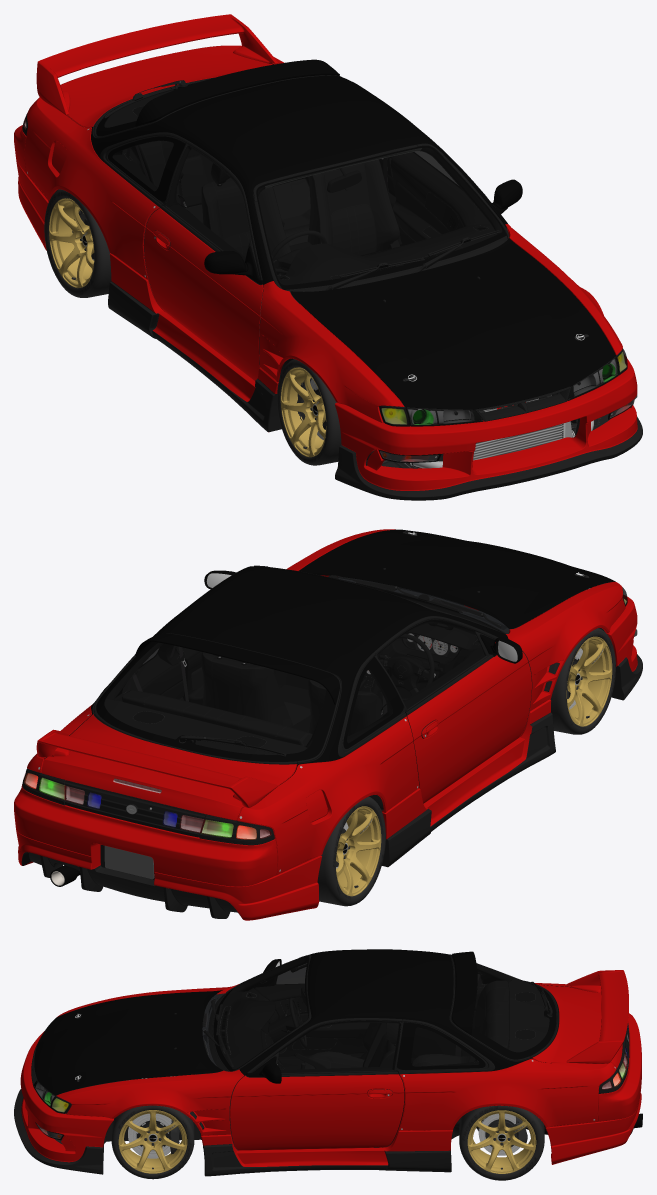
The model's file is sedan.glb.
3 renders of one model, top to bottom at view 1: azimuth 30°, elevation 25°; view 2: azimuth 150°, elevation 25°; view 3: azimuth 270°, elevation 25°, orthographic. The views are drawn at different scales.
Parts seen in each view (by area): view 1: s14:M_CarPaint_Max, s14:M_Glass_WindowLeft_Max, s14:M_Interior_Max, s14:M_Opaque_PlasticRoughBlack_Max, s14:M_Glass_WindowSurround, s14:M_LGlass_InnerClear_Max, s14:M_Opaque_PlasticSmoothBlack_Max, off5, off6, s14:M_Chassis_Max, s14:M_LBucket_SetST_Max, polySurface36_m:Mitsubishi_VoltexEvoIXRewardRecycled_2005_Wh (+1 smaller); view 2: s14:M_CarPaint_Max, s14:M_Glass_WindowLeft_Max, s14:M_Interior_Max, s14:M_Glass_WindowSurround, s14:M_Opaque_PlasticRoughBlack_Max, s14:M_Opaque_PlasticSmoothBlack_Max, off5, off6, s14:M_LBucket_Max, s14:M_LGlass_InnerClear_Max, polySurface36_m:Mitsubishi_VoltexEvoIXRewardRecycled_2005_Wh, polySurface30_m:Mitsubishi_VoltexEvoIXRewardRecycled_2005_Wh (+4 smaller); view 3: s14:M_CarPaint_Max, s14:M_Glass_WindowLeft_Max, s14:M_Interior_Max, s14:M_Glass_WindowSurround, off4, Wrim:off1, s14:M_Opaque_PlasticSmoothBlack_Max, polySurface35_m:Mitsubishi_VoltexEvoIXRewardRecycled_2005_Wh, s14:M_Opaque_PlasticRoughBlack_Max, polySurface15_m:Mitsubishi_VoltexEvoIXRewardRecycled_2005_Wh, s14:M_LGlass_InnerClear_Max, s14:M_Chassis_Max (+6 smaller).
Part boxes in pixels (x1,y1,x2,y2): s14:M_CarPaint_Max: [14, 14, 642, 500]; s14:M_Glass_WindowLeft_Max: [104, 88, 502, 285]; s14:M_Interior_Max: [104, 90, 502, 364]; s14:M_Opaque_PlasticRoughBlack_Max: [150, 143, 622, 422]; s14:M_Glass_WindowSurround: [96, 80, 506, 289]; s14:M_LGlass_InnerClear_Max: [23, 117, 637, 462]; s14:M_Opaque_PlasticSmoothBlack_Max: [92, 75, 615, 410]; off5: [49, 198, 94, 288]; off6: [280, 367, 326, 457]; s14:M_Chassis_Max: [55, 189, 610, 468]; s14:M_LBucket_SetST_Max: [380, 350, 626, 426]; polySurface36_m:Mitsubishi_VoltexEvoIXRewardRecycled_2005_Wh: [44, 189, 111, 297]; s14:M_CarPaint_Max: [14, 529, 642, 920]; s14:M_Glass_WindowLeft_Max: [104, 576, 499, 754]; s14:M_Interior_Max: [104, 597, 495, 787]; s14:M_Glass_WindowSurround: [96, 618, 502, 761]; s14:M_Opaque_PlasticRoughBlack_Max: [64, 565, 622, 837]; s14:M_Opaque_PlasticSmoothBlack_Max: [92, 568, 498, 764]; off5: [336, 806, 381, 896]; off6: [566, 636, 612, 726]; s14:M_LBucket_Max: [23, 773, 271, 839]; s14:M_LGlass_InnerClear_Max: [23, 582, 637, 839]; polySurface36_m:Mitsubishi_VoltexEvoIXRewardRecycled_2005_Wh: [317, 796, 385, 906]; polySurface30_m:Mitsubishi_VoltexEvoIXRewardRecycled_2005_Wh: [550, 628, 615, 734]; s14:M_CarPaint_Max: [14, 949, 641, 1176]; s14:M_Glass_WindowLeft_Max: [218, 957, 549, 1072]; s14:M_Interior_Max: [218, 957, 549, 1147]; s14:M_Glass_WindowSurround: [213, 955, 556, 1071]; off4: [467, 1110, 536, 1173]; Wrim:off1: [118, 1110, 187, 1173]; s14:M_Opaque_PlasticSmoothBlack_Max: [38, 954, 559, 1095]; polySurface35_m:Mitsubishi_VoltexEvoIXRewardRecycled_2005_Wh: [459, 1105, 544, 1180]; s14:M_Opaque_PlasticRoughBlack_Max: [31, 955, 629, 1163]; polySurface15_m:Mitsubishi_VoltexEvoIXRewardRecycled_2005_Wh: [111, 1105, 194, 1179]; s14:M_LGlass_InnerClear_Max: [33, 1025, 628, 1140]; s14:M_Chassis_Max: [54, 985, 526, 1166].
Size of the model in its own units: 0.02 by 0.0123 by 0.0459.
25 materials, 11 textured.
